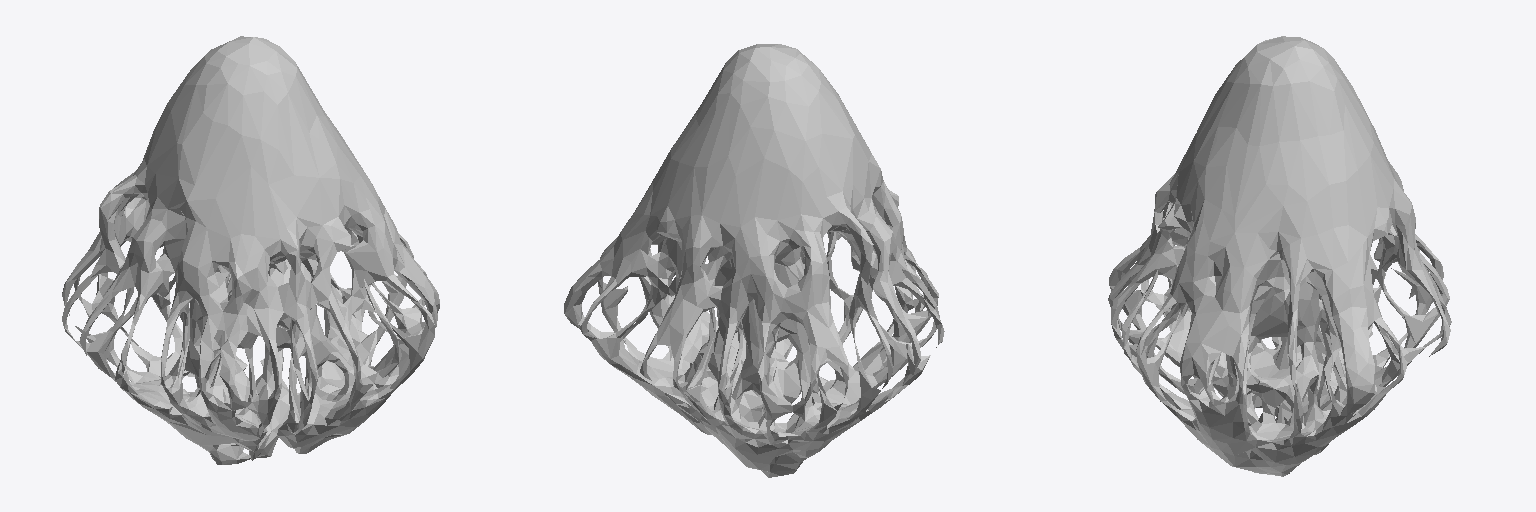
File: artifact.obj
3 renders of one model, left to right at view 1: azimuth 30°, elevation 25°; view 2: azimuth 150°, elevation 25°; view 3: azimuth 270°, elevation 25°, orthographic.
Visible parts, largest first — view 1: af_medusa.ogf_01; view 2: af_medusa.ogf_01; view 3: af_medusa.ogf_01.
Boxes of the visible parts, box(x1,y1,x2,y2) form: af_medusa.ogf_01: box(62, 36, 439, 464); af_medusa.ogf_01: box(564, 44, 944, 477); af_medusa.ogf_01: box(1108, 36, 1451, 476).
Size of the model in its own units: 0.2522 by 0.3102 by 0.2275.